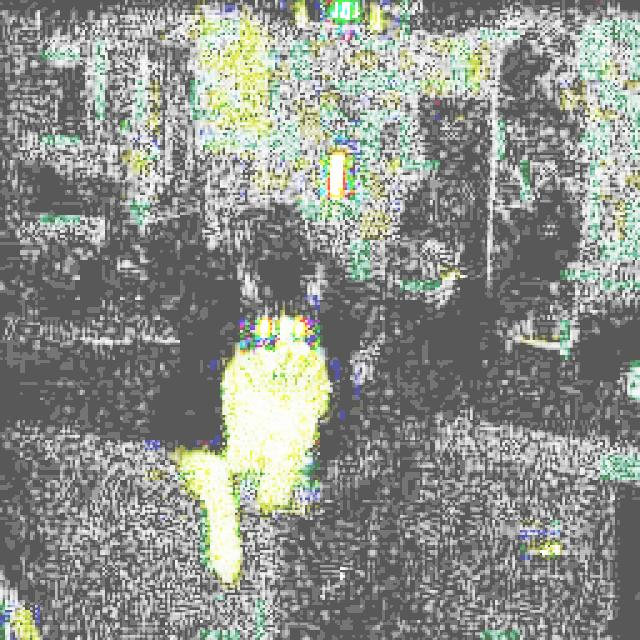cat: (181, 261, 393, 550)
